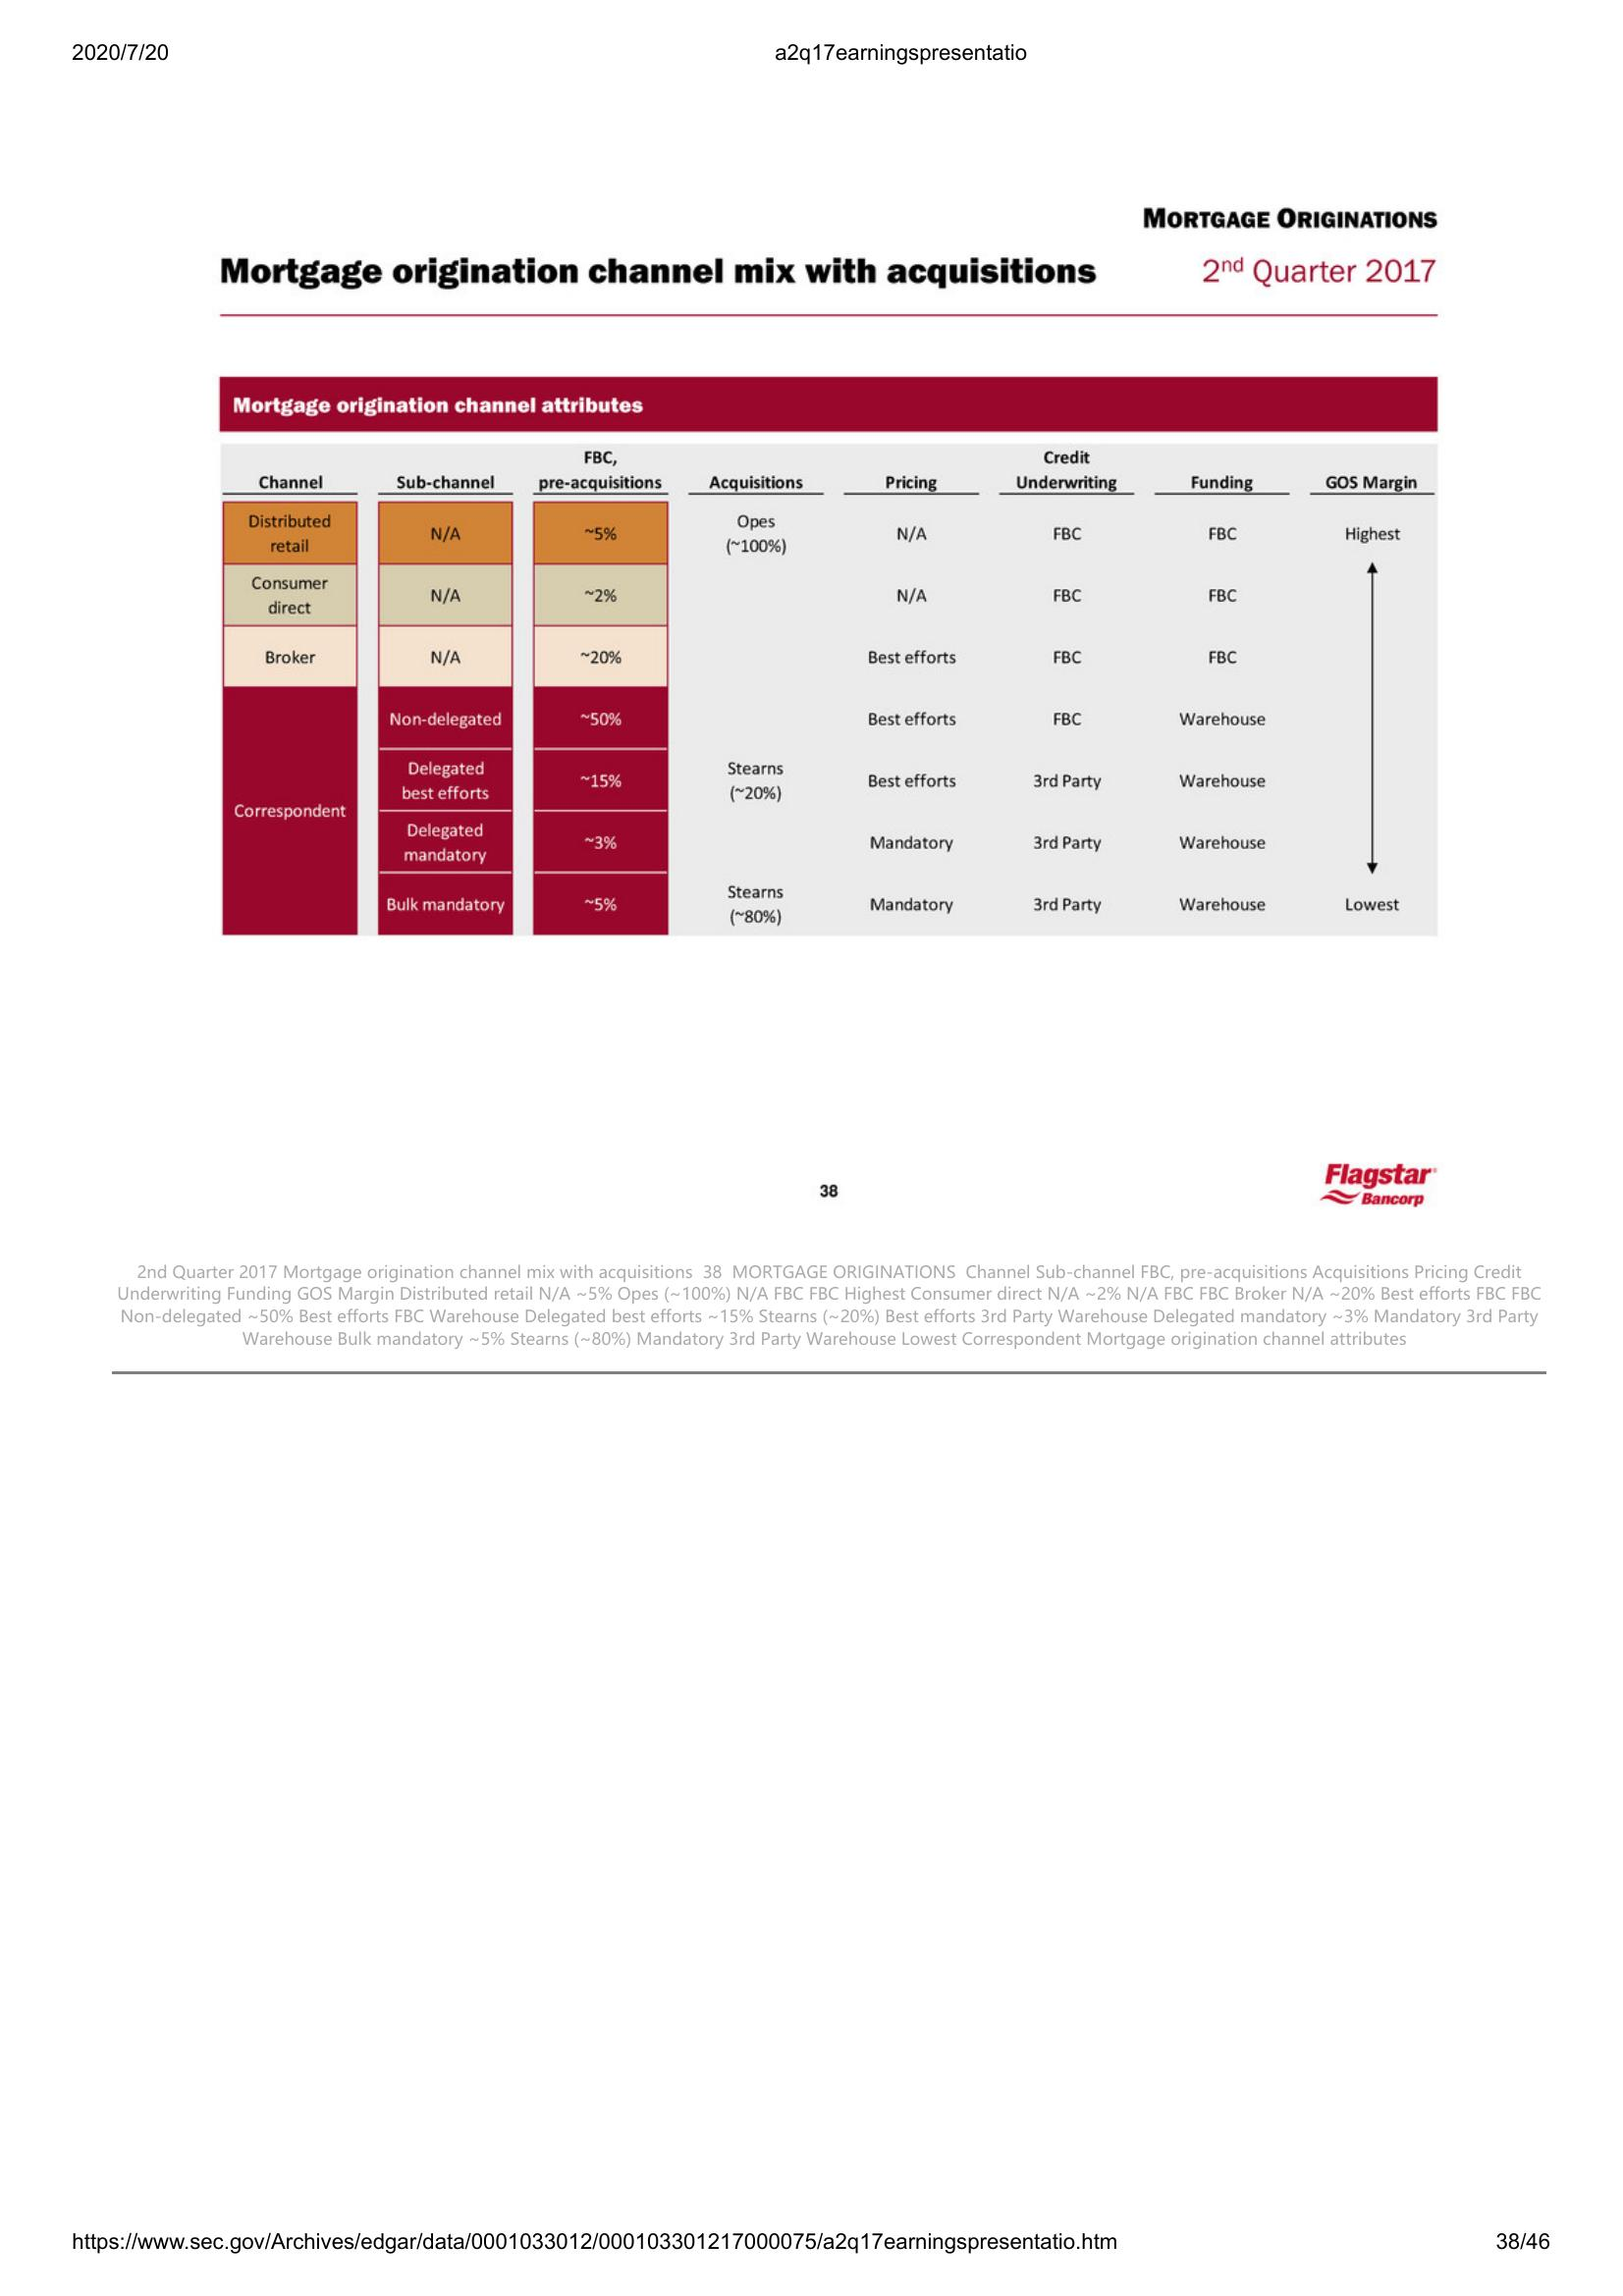table: (214, 372, 1442, 941)
